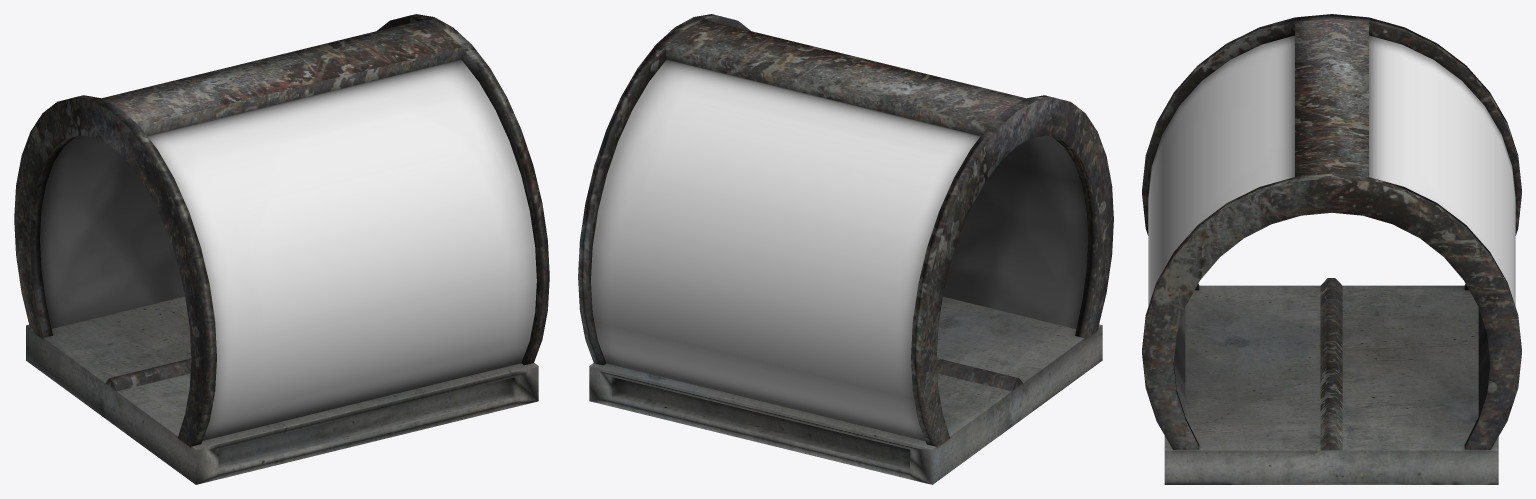
Rendered from Tube WalkWay1.fbx.
3 renders of one model, left to right at view 1: azimuth 30°, elevation 25°; view 2: azimuth 150°, elevation 25°; view 3: azimuth 270°, elevation 25°, orthographic.
Visible parts, largest first — view 1: Cylinder_005; view 2: Cylinder_005; view 3: Cylinder_005.
Part boxes in pixels (<box>): Cylinder_005: <box>14,14,549,484</box>; Cylinder_005: <box>578,14,1113,484</box>; Cylinder_005: <box>1142,14,1521,484</box>.
Size of the model in its own units: 3.5 by 3.04 by 3.41.
